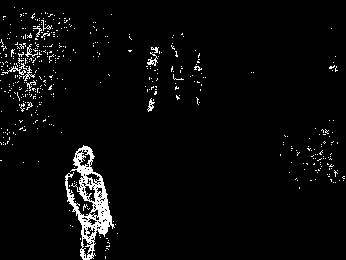person: (61, 144, 115, 260)
